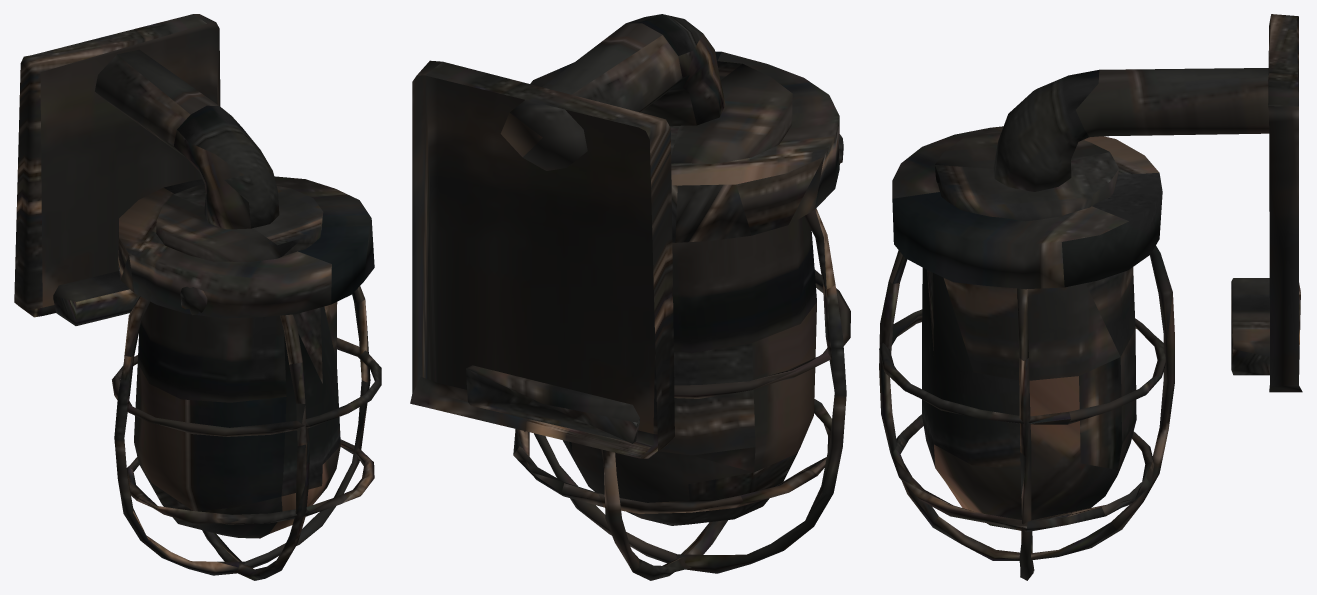
File: WallLamp2.fbx
3 views of the same model, side by side, from view 1: azimuth 30°, elevation 25°; view 2: azimuth 150°, elevation 25°; view 3: azimuth 270°, elevation 25° (orthographic). The views are drawn at different scales.
Visible parts, largest first — view 1: WallLamp2; view 2: WallLamp2; view 3: WallLamp2.
Part boxes in pixels (x1,y1,x2,y2): WallLamp2: [14, 14, 381, 580]; WallLamp2: [410, 14, 850, 580]; WallLamp2: [879, 14, 1302, 580].
Size of the model in its own units: 209 by 352 by 270.
